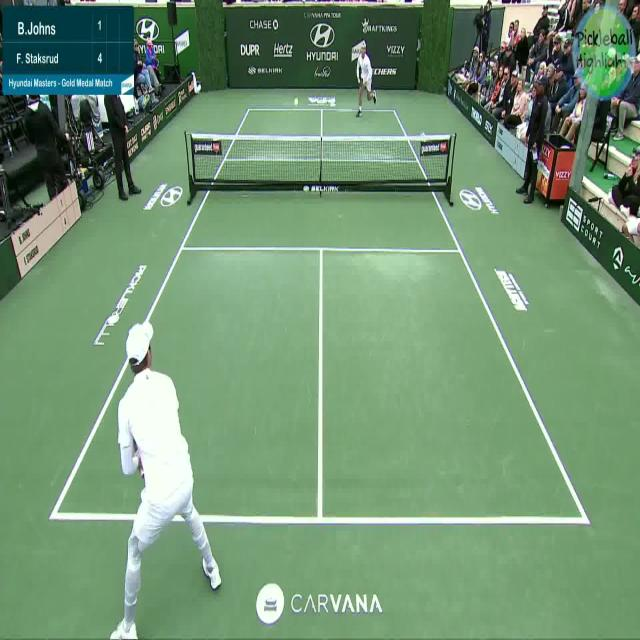Court: (50, 109, 587, 522)
ball: (293, 96, 301, 110)
